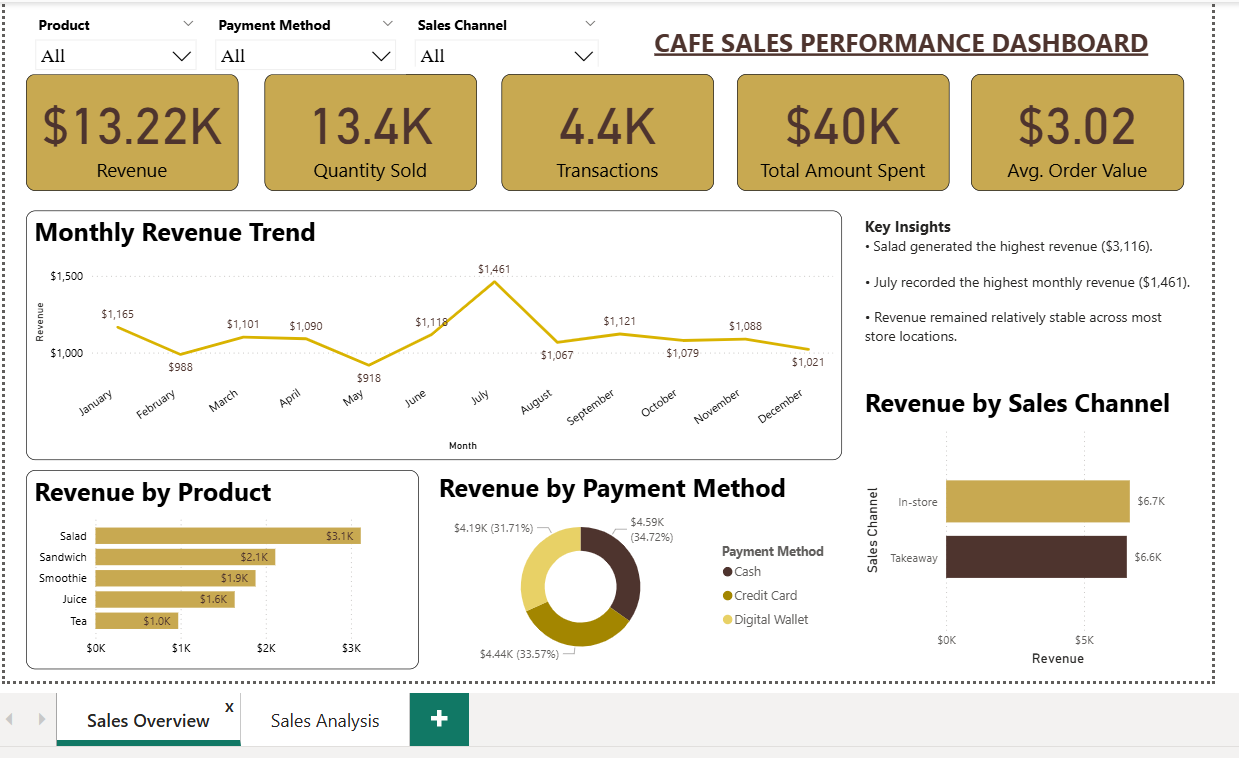

The dashboard page shown, as its layout file describes it:
{"tool":"powerbi","page":{"name":"Sales Overview","canvas":[1280,720],"ordinal":0},"visuals":[{"type":"card","fields":{"Values":["cafe_sales.Total Quantity"]},"box":[275.2,76.3,225,124.1],"z":0},{"type":"card","fields":{"Values":["cafe_sales.No of trans"]},"box":[526.5,76.3,225,124.1],"z":1000},{"type":"card","fields":{"Values":["cafe_sales.Total PPU"]},"box":[22.3,76.3,225,124.1],"z":2000},{"type":"barChart","title":"Revenue by Product","fields":{"Y":["cafe_sales.Total PPU"],"Category":["cafe_sales.Item"]},"box":[22.3,496.3,416.7,211.6],"z":3000},{"type":"lineChart","title":"Monthly Revenue Trend","fields":{"Y":["cafe_sales.Total PPU"],"Category":["cafe_sales.Transaction Date.Variation.Date Hierarchy.Month"]},"box":[22.7,221.1,865.5,264.6],"z":4000},{"type":"clusteredBarChart","title":"Revenue by Sales Channel","fields":{"Y":["cafe_sales.Revenue"],"Category":["cafe_sales.Location"]},"box":[906.6,405.6,343.6,302.2],"z":5000},{"type":"shape","box":[650.6,11.1,599.7,62],"z":6000},{"type":"card","fields":{"Values":["cafe_sales.Total Amount Spent"]},"box":[776.2,76.3,225,124.1],"z":7000},{"type":"slicer","fields":{"Values":["cafe_sales.Location"]},"box":[424.7,8,214.7,60.4],"z":8000},{"type":"slicer","fields":{"Values":["cafe_sales.Item"]},"box":[22.3,8,190.9,68.4],"z":9000},{"type":"card","fields":{"Values":["cafe_sales.Avg.Price Per Unit"]},"box":[1024.4,76.3,225.9,124.1],"z":10000},{"type":"textbox","box":[906.6,221.1,357.9,168.6],"z":11000},{"type":"donutChart","title":"Revenue by Payment Method","fields":{"Y":["cafe_sales.Revenue"],"Category":["cafe_sales.Payment Method"]},"box":[454.9,496.3,434.2,211.6],"z":12000},{"type":"slicer","fields":{"Values":["cafe_sales.Payment Method"]},"box":[213.1,8,211.6,68.4],"z":13000}]}

Visuals, with their boxes on the page's 1280x720 design canvas (x1, y1, x2, y2). These are canvas units, not pixel positions in the 1239x758 screenshot, which may show the page scaled, cropped or inside an application window:
card - cafe_sales.Total Quantity: 275:76:500:200
card - cafe_sales.No of trans: 526:76:752:200
card - cafe_sales.Total PPU: 22:76:247:200
"Revenue by Product" barChart: 22:496:439:708
"Monthly Revenue Trend" lineChart: 23:221:888:486
"Revenue by Sales Channel" clusteredBarChart: 907:406:1250:708
shape: 651:11:1250:73
card - cafe_sales.Total Amount Spent: 776:76:1001:200
slicer - cafe_sales.Location: 425:8:639:68
slicer - cafe_sales.Item: 22:8:213:76
card - cafe_sales.Avg.Price Per Unit: 1024:76:1250:200
textbox: 907:221:1264:390
"Revenue by Payment Method" donutChart: 455:496:889:708
slicer - cafe_sales.Payment Method: 213:8:425:76
